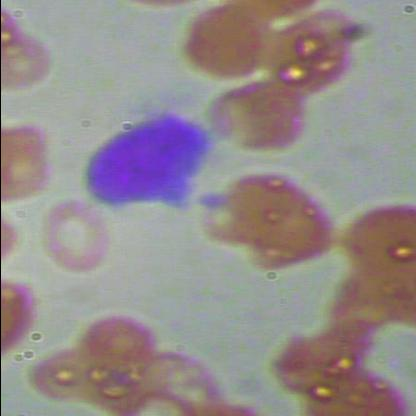Platelets: (194, 190, 227, 210)
RBC: (174, 4, 280, 84), (206, 78, 312, 154), (218, 172, 324, 248), (271, 330, 372, 401), (331, 199, 415, 280), (291, 363, 408, 415), (75, 315, 164, 373), (44, 198, 110, 274), (1, 126, 57, 208), (1, 30, 57, 92)
WBC: (84, 109, 210, 209)
